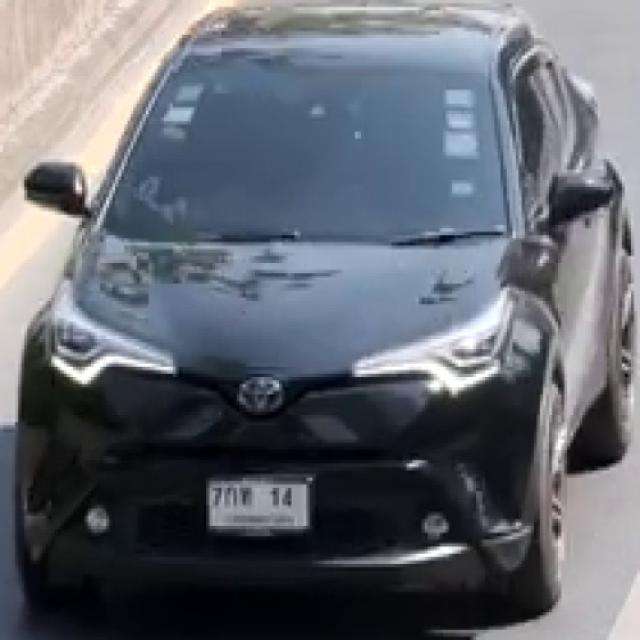plate: (206, 478, 307, 532)
